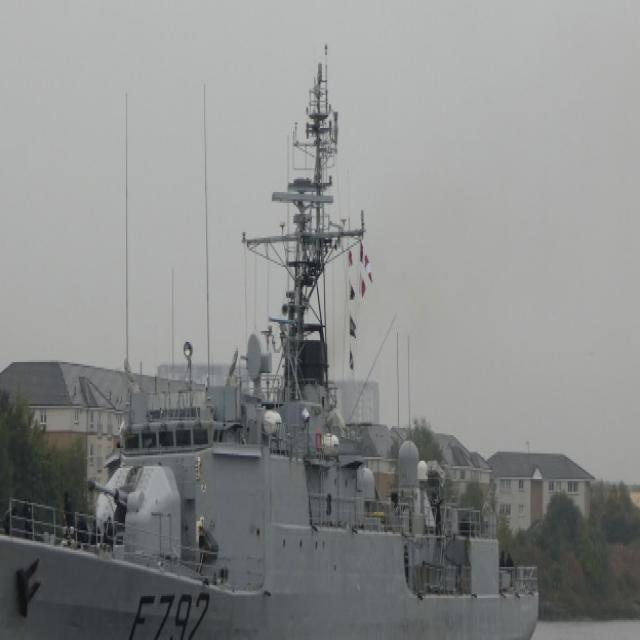Fragata: (1, 46, 544, 640)
